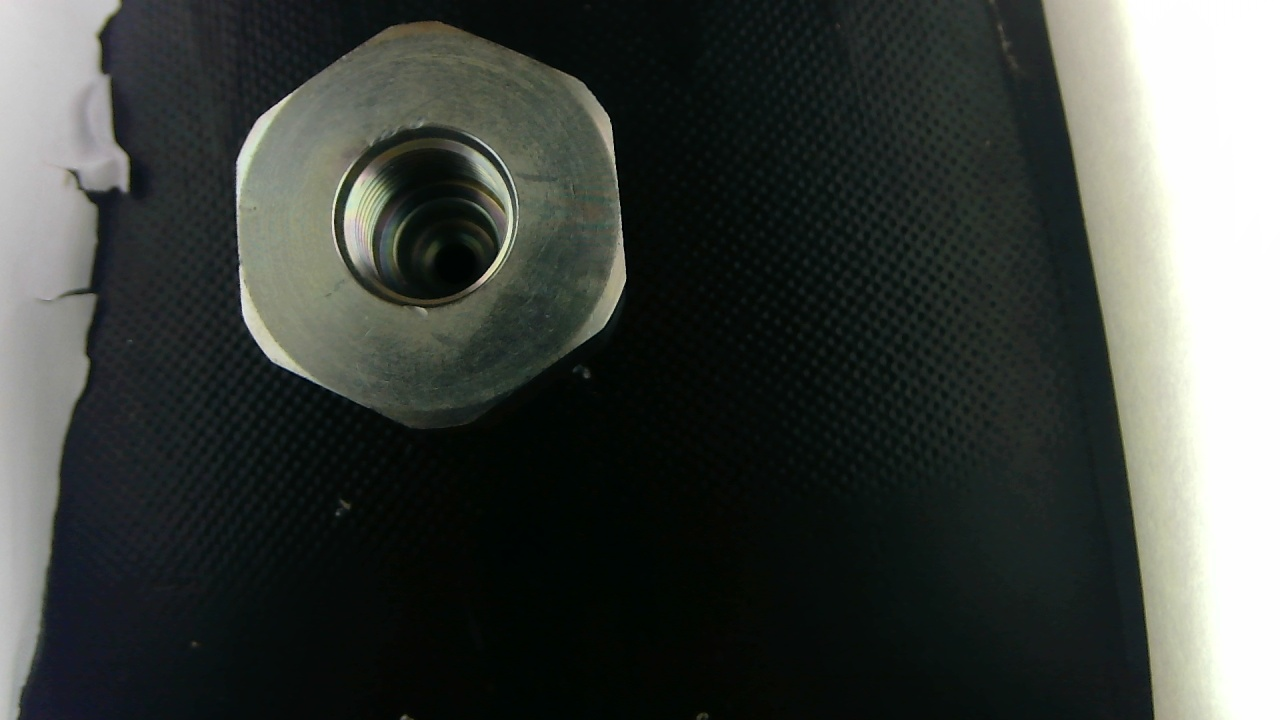Capnut_Surface_Dent: (400, 305, 432, 322)
